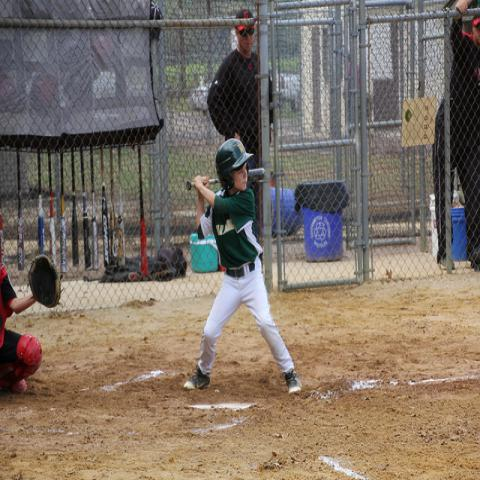car: (277, 74, 301, 111), (192, 87, 208, 113)
